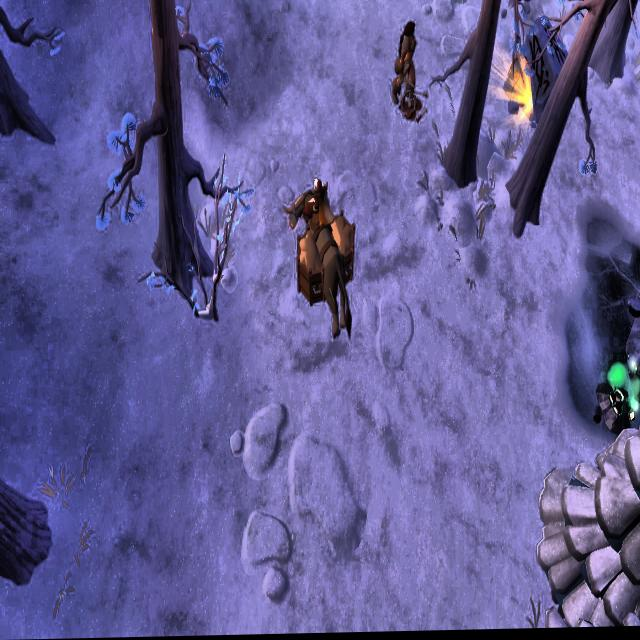enemy_factionKeeper: (390, 20, 418, 112)
